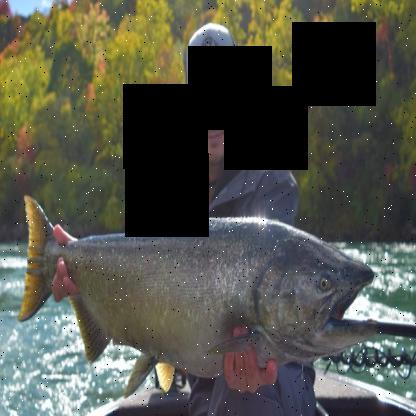fish: (17, 194, 377, 397)
